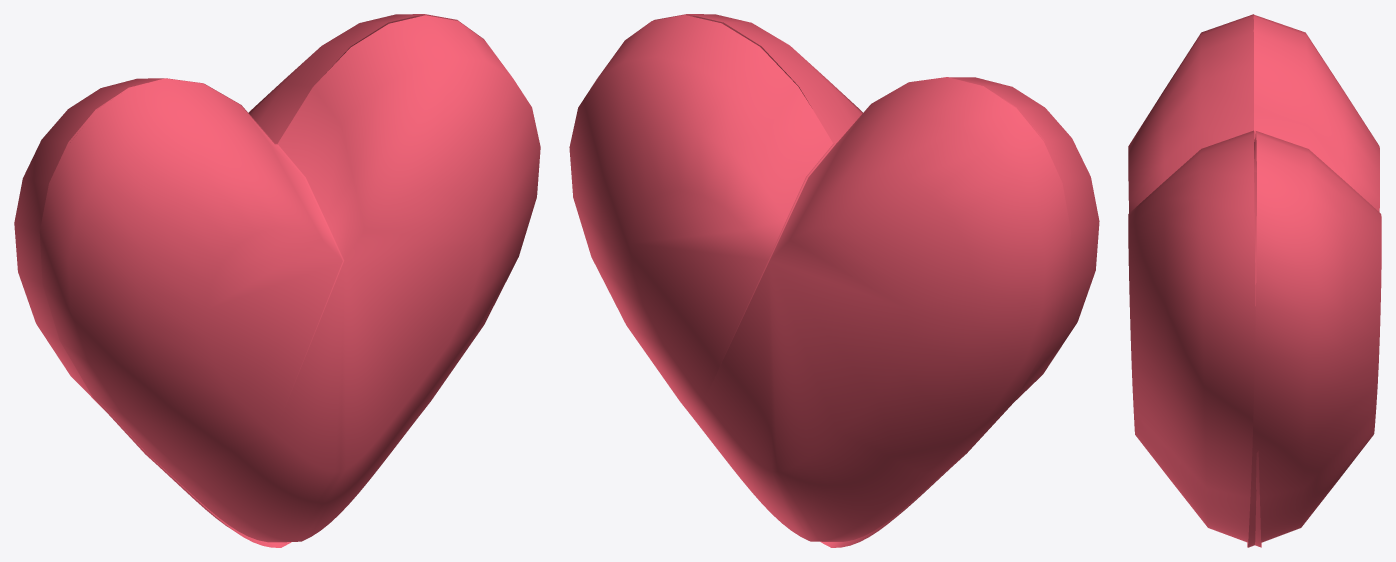
File: Spleunk.glb
The picture shows the model from 3 angles, left to right: view 1: azimuth 30°, elevation 25°; view 2: azimuth 150°, elevation 25°; view 3: azimuth 270°, elevation 25°; orthographic projection. The views are drawn at different scales.
Parts seen in each view (by area): view 1: obj_0.001; view 2: obj_0.001; view 3: obj_0.001.
Boxes of the visible parts, left/top/right/bottom form: obj_0.001: left=14, top=14, right=540, bottom=547; obj_0.001: left=569, top=14, right=1099, bottom=547; obj_0.001: left=1128, top=14, right=1381, bottom=547.
Size of the model in its own units: 15.02 by 15 by 7.46.
